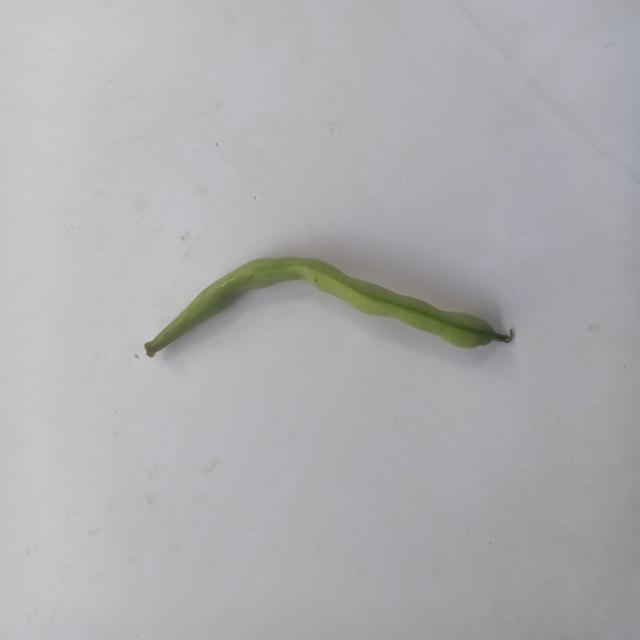Beans: (110, 250, 570, 407)
